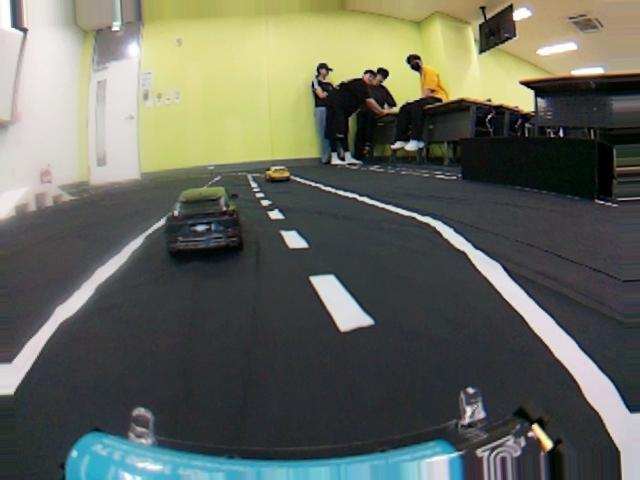car: (164, 184, 246, 261), (264, 163, 289, 182)
straight: (3, 227, 630, 480)
